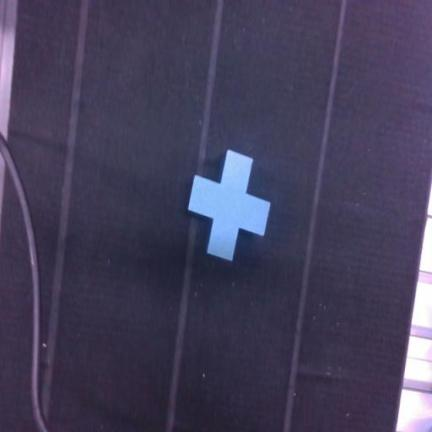cross: (189, 151, 269, 260)
